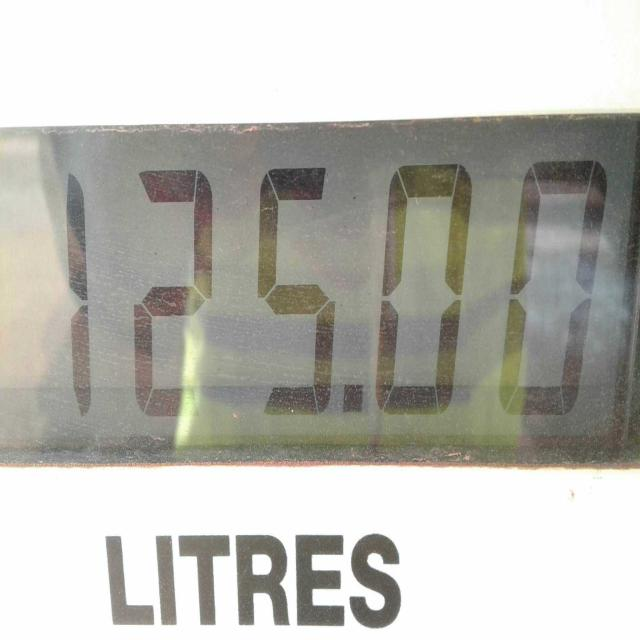.: (345, 382, 363, 412)
0: (502, 154, 609, 426), (378, 164, 465, 411)
1: (60, 172, 98, 424)
2: (135, 168, 213, 409)
5: (258, 165, 333, 410)
